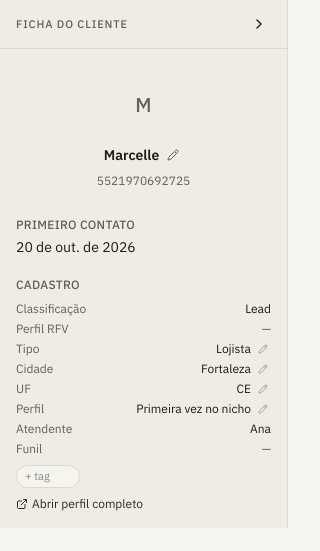
Scenario: B40-01 — nicho sai das telas do contato › CA-B40-05: should mostrar a ficha do chat sem nicho, com os outros dados editáveis
Expected: the text "Fortaleza" is shown, [201,361,251,377]
Click the button named "Editar cidade" at [263, 369], box [255,361,271,377]
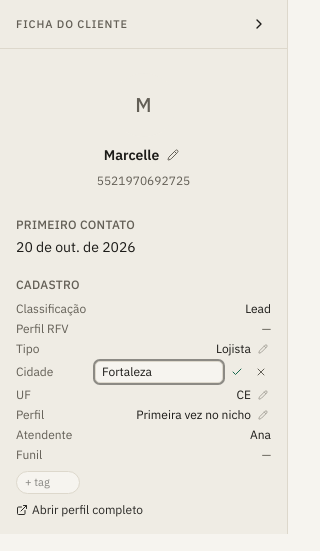
Replace the text in the field named "Cidade" with "Recife" at [159, 372], box [95,361,223,383]
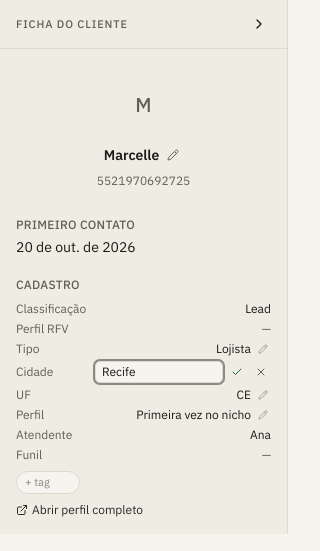
Press Enter in the field named "Cidade", box [95,361,223,383]
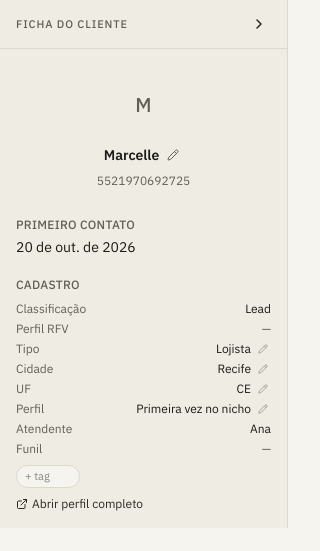
Now the text "Recife" is shown, box [217,361,251,377]
